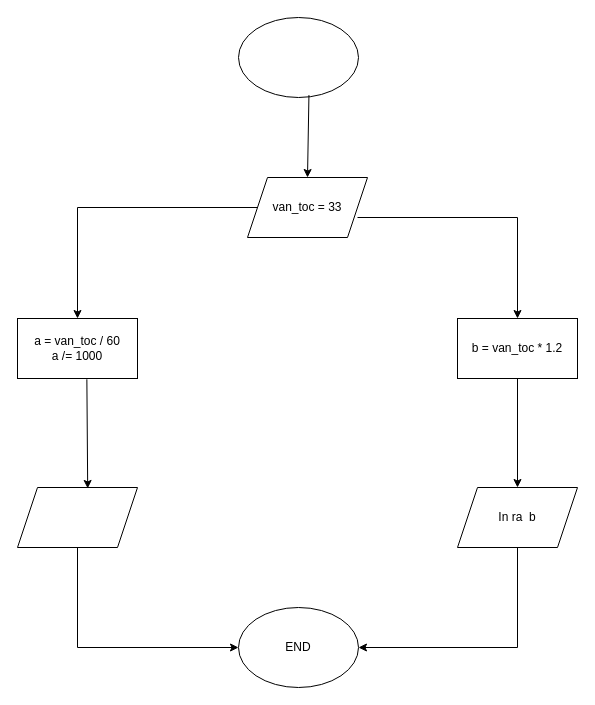
Some shapes in this 595 by 705 pixel diagram are drawn without their labels. The shapes that lost their labels are listed below. From the top down, each one's box as (x1, y1, x2, y2) in pixels, then its label:
(238, 16, 358, 98): START
(16, 486, 138, 548): In ra a
